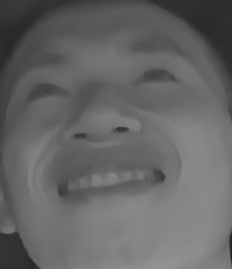eye: (22, 71, 74, 106), (131, 59, 183, 92)
mouth: (52, 160, 168, 206)
